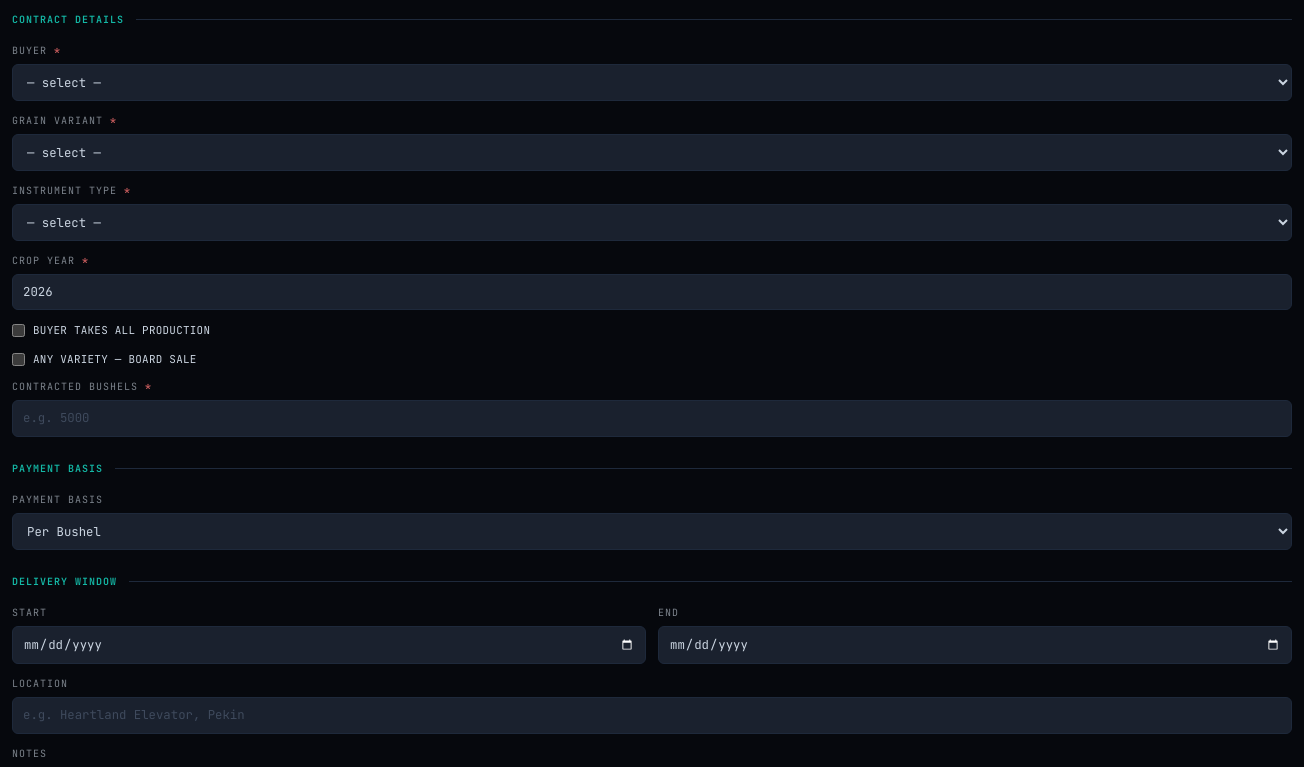
Scenario: ContractForm › shows cash price field when instrument is SPOT
Step 1. Select "Spot" in the dropdown labelled "Instrument Type *" → (652, 222), box [12,204,1292,241]
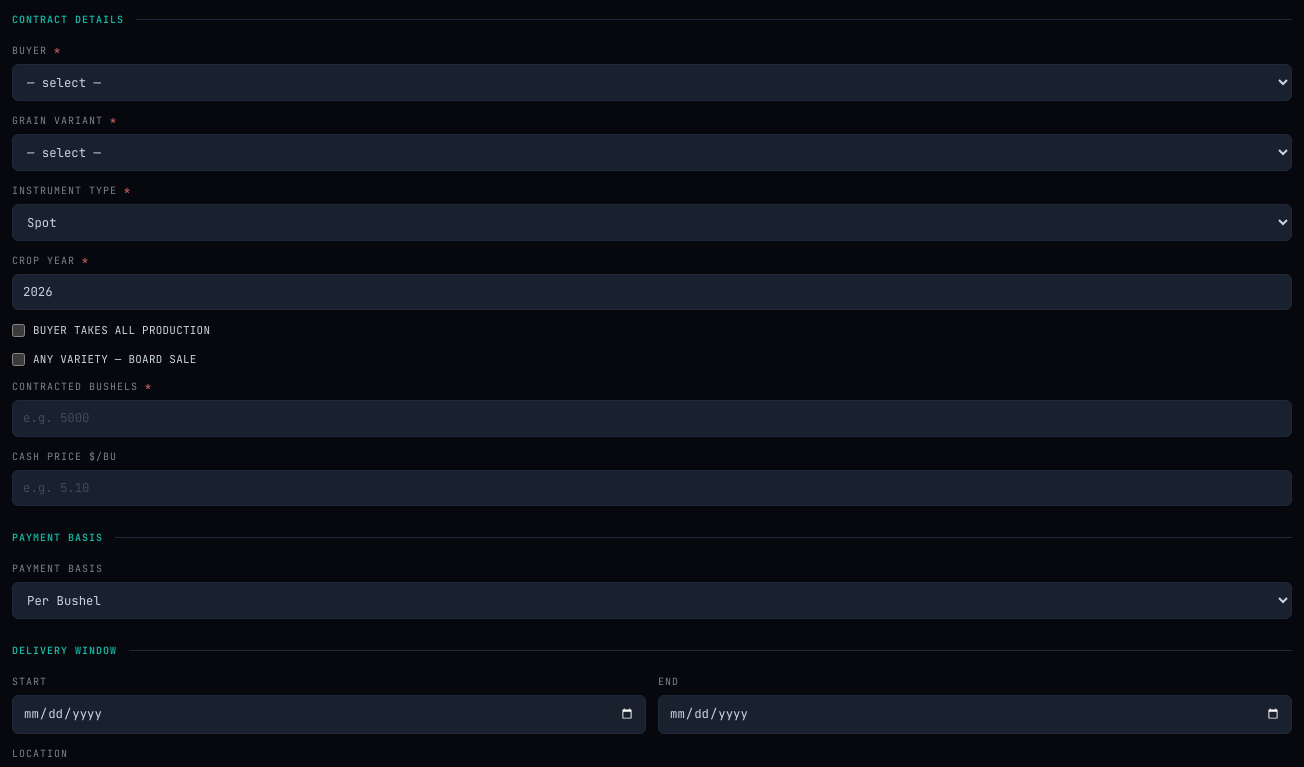
Result: the number field labelled "Cash Price $/bu" is shown at [12,470,1292,506]
